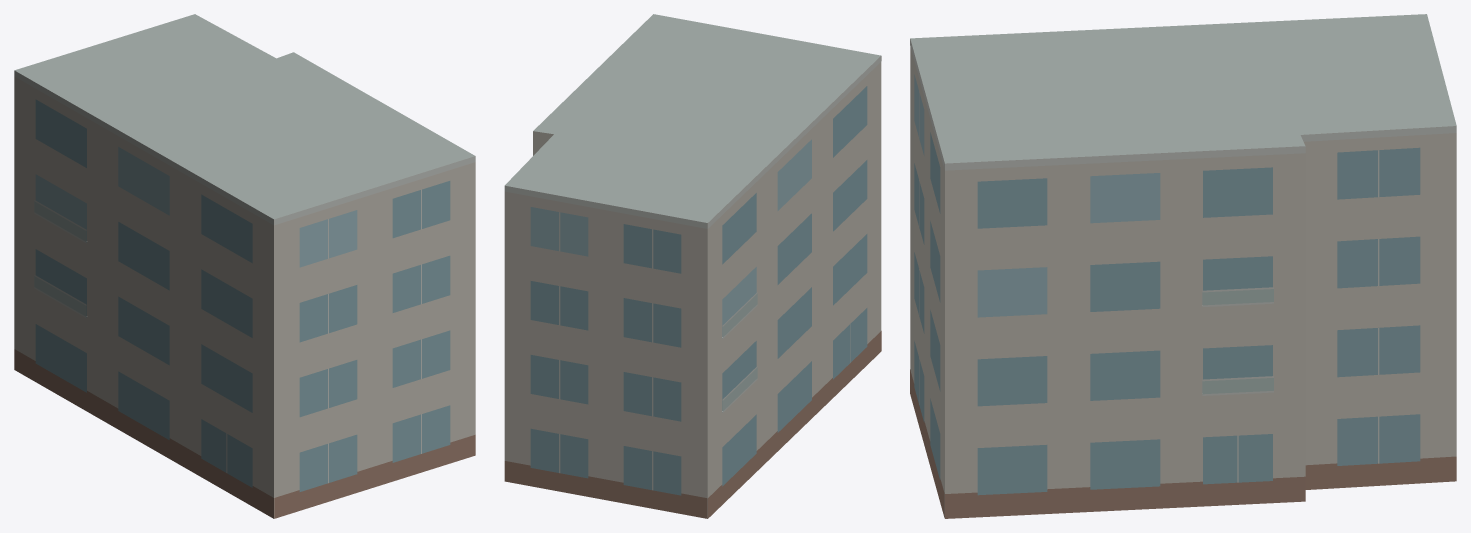
Rendered from survey-upis-32651760.glb.
3 renders of one model, left to right at view 1: azimuth 30°, elevation 25°; view 2: azimuth 150°, elevation 25°; view 3: azimuth 270°, elevation 25°, orthographic. The views are drawn at different scales.
Parts seen in each view (by area): view 1: survey-upis-32651760.tmp; view 2: survey-upis-32651760.tmp; view 3: survey-upis-32651760.tmp.
Boxes of the visible parts, box(x1,y1,x2,y2) form: survey-upis-32651760.tmp: box(14, 14, 475, 518); survey-upis-32651760.tmp: box(504, 14, 881, 518); survey-upis-32651760.tmp: box(910, 14, 1456, 518).
Size of the model in its own units: 11.02 by 12.2 by 17.02.
